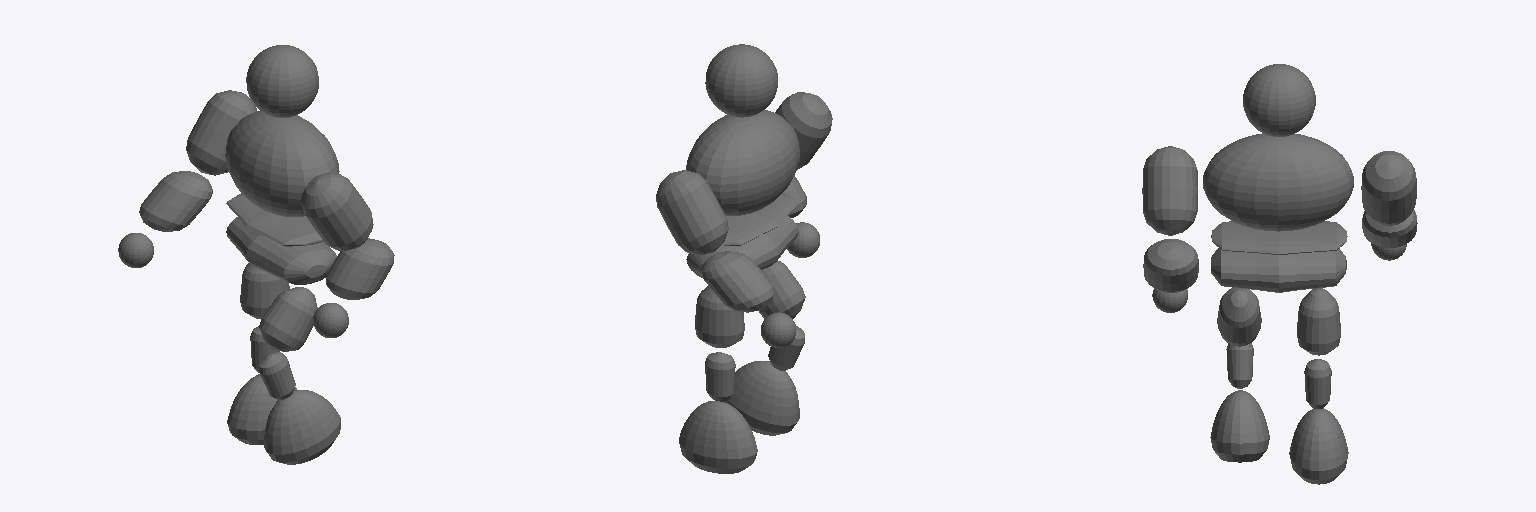
File: PTwo1.obj
3 renders of one model, left to right at view 1: azimuth 30°, elevation 25°; view 2: azimuth 150°, elevation 25°; view 3: azimuth 270°, elevation 25°, orthographic.
Visible parts, largest first — view 1: pSphere1, pasted__pasted__pasted__pSphere1 pasted__pasted__group pasted__g, pSphere3, pasted__pCylinder2 group12, pCylinder1, pCylinder2, pasted__pasted__pasted__pCylinder2 pasted__pasted__group13 paste, pasted__pasted__pasted__pCylinder1 pasted__pasted__group4 pasted, pasted__pasted__pCylinder2 pasted__group13 group14, pasted__pasted__pasted__pasted__pCylinder1 pasted__pasted__paste, pasted__pCylinder1 group11, pasted__pasted__pSphere1 pasted__group group3 (+3 smaller); view 2: pSphere1, pasted__pasted__pSphere1 pasted__group group3, pCylinder2, pSphere3, pasted__pasted__pasted__pSphere1 pasted__pasted__group pasted__g, pasted__pasted__pasted__pCylinder2 pasted__pasted__group13 paste, pasted__pasted__pasted__pCylinder1 pasted__pasted__group4 pasted, pasted__pCylinder2 group12, pCylinder1, pasted__pCylinder1 group11, pasted__pasted__pasted__pasted__pCylinder1 pasted__pasted__paste, pasted__pasted__pCylinder1 pasted__group4 group8 (+2 smaller); view 3: pSphere1, pCylinder1, pasted__pCylinder2 group12, pSphere3, pasted__pasted__pasted__pCylinder1 pasted__pasted__group4 pasted, pCylinder2, pasted__pasted__pSphere1 pasted__group group3, pasted__pCylinder1 group11, pasted__pasted__pasted__pSphere1 pasted__pasted__group pasted__g, pasted__pasted__pCylinder2 pasted__group13 group14, pasted__pasted__pasted__pasted__pCylinder1 pasted__pasted__paste, pasted__pasted__pasted__pCylinder2 pasted__pasted__group13 paste (+2 smaller).
Part boxes in pixels (x1,y1,x2,y2): pSphere1: (225, 111, 339, 216); pasted__pasted__pasted__pSphere1 pasted__pasted__group pasted__g: (264, 390, 340, 464); pSphere3: (246, 45, 318, 117); pasted__pCylinder2 group12: (301, 173, 373, 250); pCylinder1: (226, 217, 336, 284); pCylinder2: (186, 90, 257, 175); pasted__pasted__pasted__pCylinder2 pasted__pasted__group13 paste: (139, 171, 212, 231); pasted__pasted__pasted__pCylinder1 pasted__pasted__group4 pasted: (240, 263, 295, 399); pasted__pasted__pCylinder2 pasted__group13 group14: (326, 238, 394, 299); pasted__pasted__pasted__pasted__pCylinder1 pasted__pasted__paste: (259, 287, 317, 351); pasted__pCylinder1 group11: (226, 193, 323, 246); pasted__pasted__pSphere1 pasted__group group3: (227, 374, 296, 444); pSphere1: (686, 110, 799, 215); pasted__pasted__pSphere1 pasted__group group3: (679, 401, 757, 473); pCylinder2: (656, 170, 728, 255); pSphere3: (705, 44, 777, 117); pasted__pasted__pasted__pSphere1 pasted__pasted__group pasted__g: (724, 361, 799, 435); pasted__pasted__pasted__pCylinder2 pasted__pasted__group13 paste: (701, 251, 774, 312); pasted__pasted__pasted__pCylinder1 pasted__pasted__group4 pasted: (695, 286, 804, 370); pasted__pCylinder2 group12: (775, 92, 832, 169); pCylinder1: (686, 215, 798, 277); pasted__pCylinder1 group11: (722, 193, 797, 245); pasted__pasted__pasted__pasted__pCylinder1 pasted__pasted__paste: (758, 261, 805, 318); pasted__pasted__pCylinder1 pasted__group4 group8: (705, 352, 735, 401); pSphere1: (1203, 133, 1353, 231); pCylinder1: (1211, 248, 1346, 292); pasted__pCylinder2 group12: (1142, 146, 1197, 235); pSphere3: (1243, 64, 1315, 136); pasted__pasted__pasted__pCylinder1 pasted__pasted__group4 pasted: (1226, 288, 1340, 388); pCylinder2: (1361, 151, 1416, 225); pasted__pasted__pSphere1 pasted__group group3: (1289, 408, 1348, 484); pasted__pCylinder1 group11: (1211, 221, 1347, 254); pasted__pasted__pasted__pSphere1 pasted__pasted__group pasted__g: (1210, 390, 1269, 462); pasted__pasted__pCylinder2 pasted__group13 group14: (1143, 239, 1198, 292); pasted__pasted__pasted__pasted__pCylinder1 pasted__pasted__paste: (1217, 288, 1261, 346); pasted__pasted__pasted__pCylinder2 pasted__pasted__group13 paste: (1362, 210, 1417, 247).
Bounding box in the file's own units: 2.72 × 6.49 × 4.01.